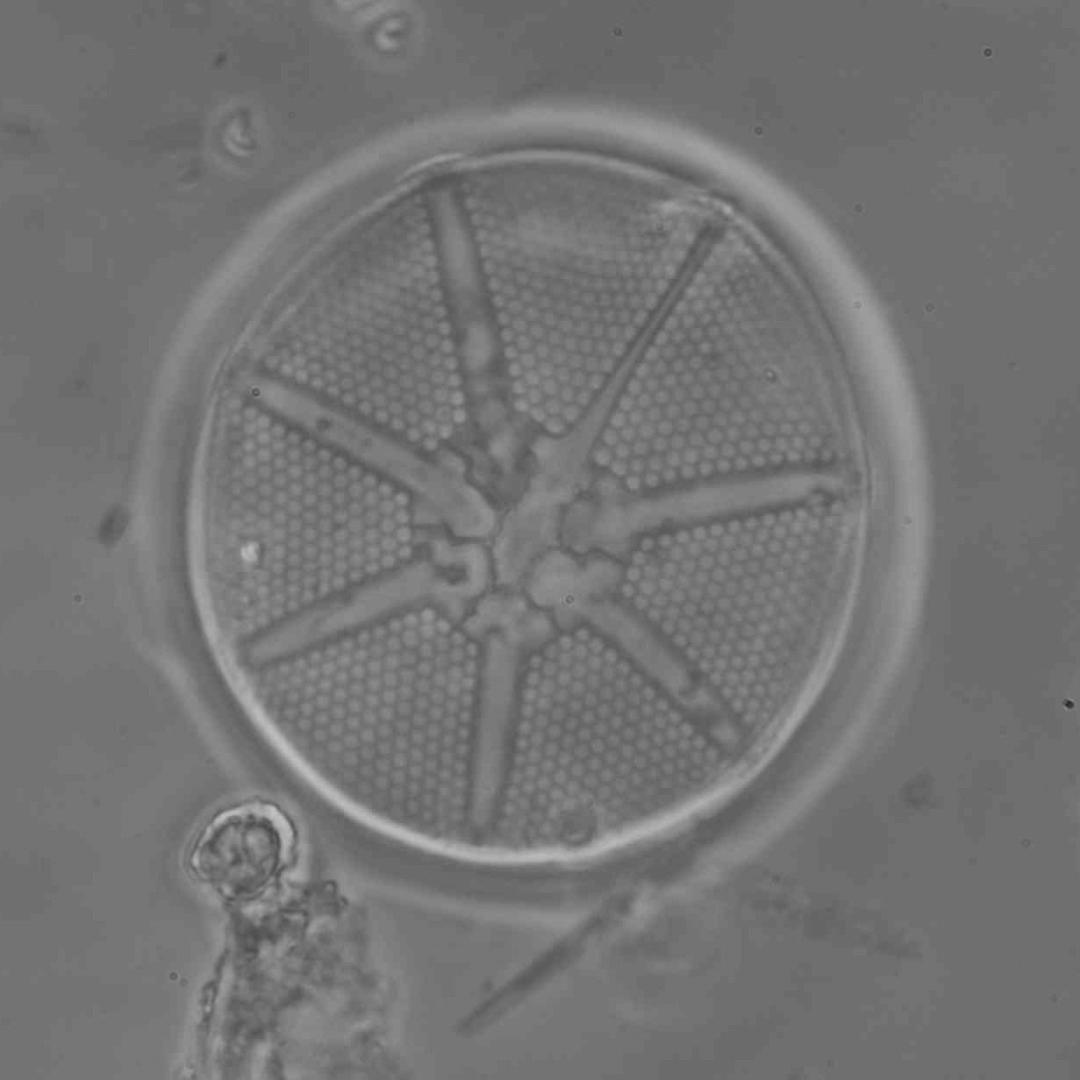asteromphalus_hyalinus: (208, 147, 871, 855)
